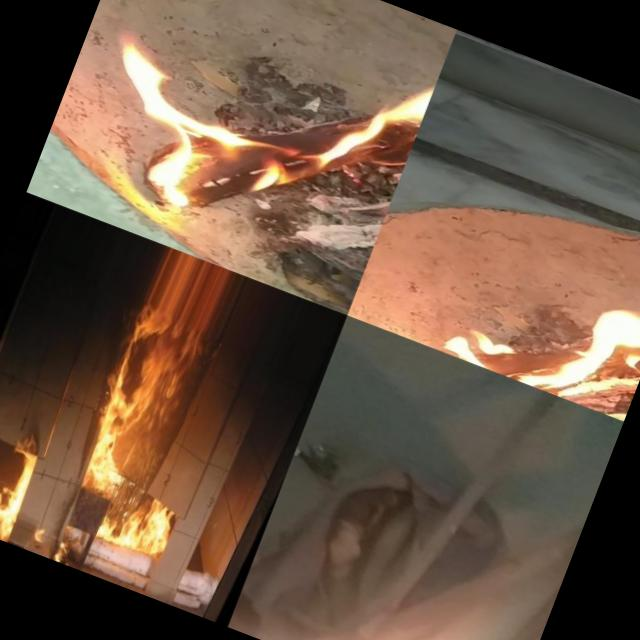fire: (63, 0, 440, 277), (435, 237, 640, 421), (74, 310, 212, 498), (340, 591, 534, 640), (94, 484, 182, 566), (0, 434, 49, 544)
